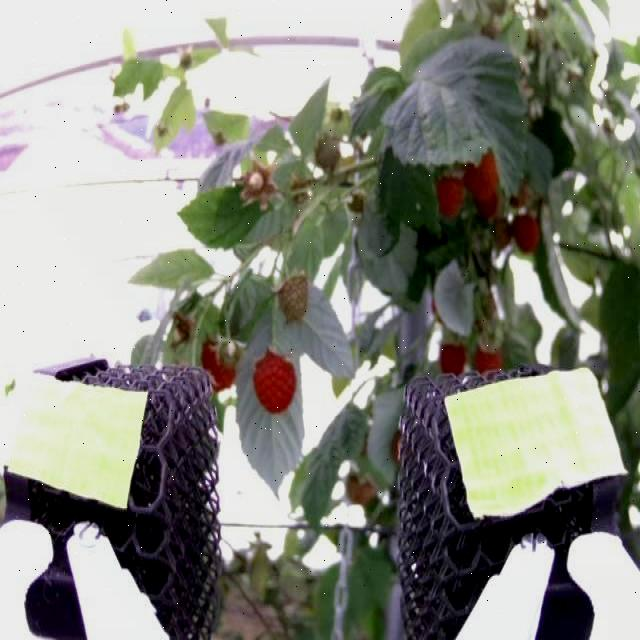Riped berries: (254, 348, 300, 417), (203, 332, 244, 392), (464, 149, 502, 210), (432, 166, 465, 221), (513, 208, 542, 257), (436, 336, 468, 377), (476, 341, 503, 373)
